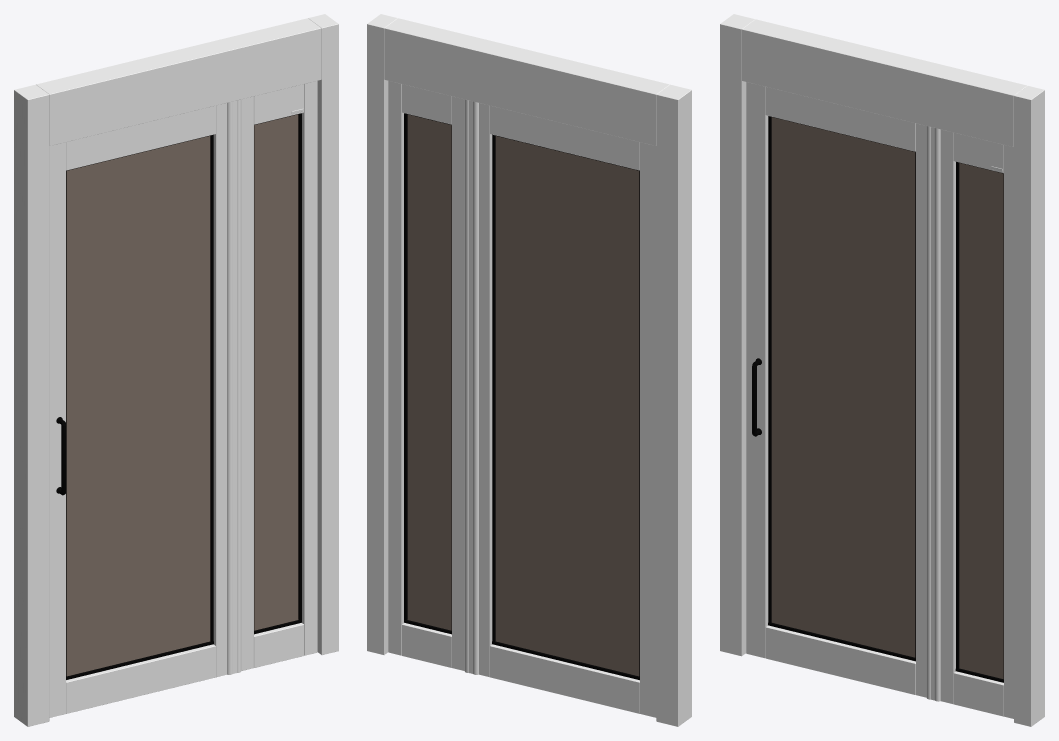
File: MEGA_PACK_door__door-586242_White.glb
3 views of the same model, side by side, from view 1: azimuth 30°, elevation 25°; view 2: azimuth 150°, elevation 25°; view 3: azimuth 330°, elevation 25° (orthographic).
Parts seen in each view (by area): view 1: door-586242_White; view 2: door-586242_White; view 3: door-586242_White.
Boxes of the visible parts, x1=… form: door-586242_White: x1=14, y1=14, x2=338, y2=726; door-586242_White: x1=367, y1=14, x2=691, y2=726; door-586242_White: x1=720, y1=14, x2=1044, y2=726.
Bounding box in the file's own units: 1.3 × 2.5 × 0.1139.
Materials: 1 (1 with a texture image).
